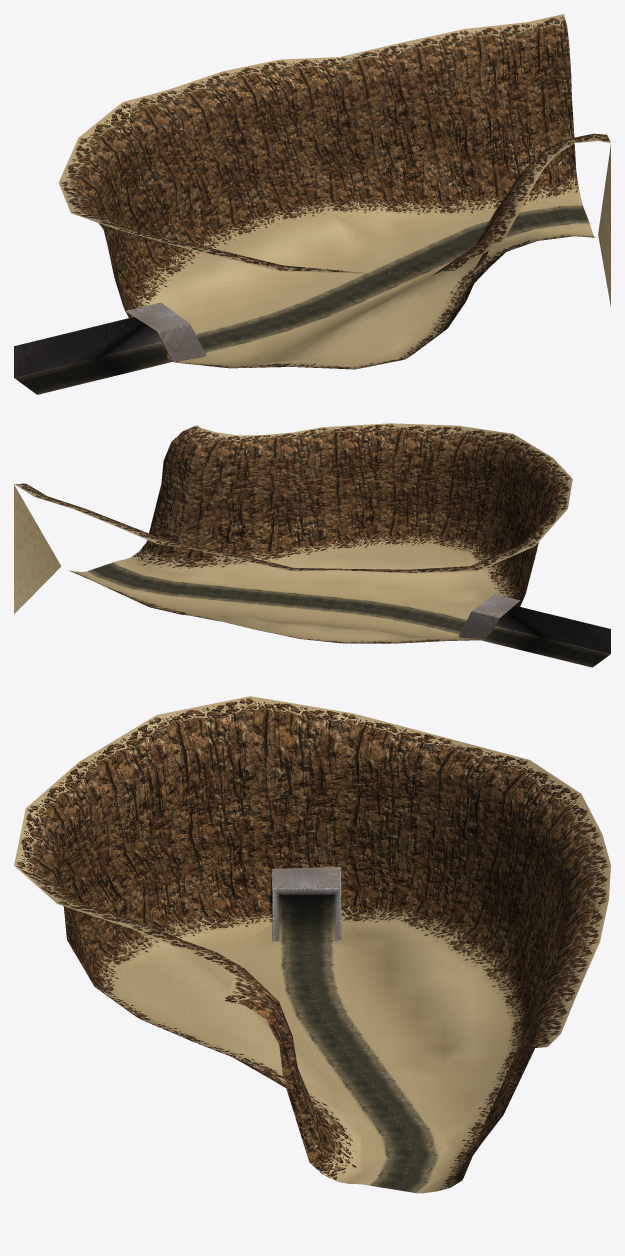
File: Mission8_Zone01C.glb
3 renders of one model, top to bottom at view 1: azimuth 30°, elevation 25°; view 2: azimuth 150°, elevation 25°; view 3: azimuth 270°, elevation 25°, orthographic. The views are drawn at different scales.
Parts seen in each view (by area): view 1: MISSION8_ZONE01C107, MISSION8_ZONE01C102, MISSION8_ZONE01C108, MISSION8_ZONE01C103, MISSION8_ZONE01C106, MISSION8_ZONE01C105, MISSION8_ZONE01C098, MISSION8_ZONE01C046, MISSION8_ZONE01C104, MISSION8_ZONE01C096, MISSION8_ZONE01C109, MISSION8_ZONE01C100 (+70 smaller); view 2: MISSION8_ZONE01C018, MISSION8_ZONE01C042, MISSION8_ZONE01C028, MISSION8_ZONE01C002, MISSION8_ZONE01C111, MISSION8_ZONE01C010, MISSION8_ZONE01C008, MISSION8_ZONE01C009, MISSION8_ZONE01C058, MISSION8_ZONE01C043, MISSION8_ZONE01C032, MISSION8_ZONE01C007 (+61 smaller); view 3: MISSION8_ZONE01C020, MISSION8_ZONE01C047, MISSION8_ZONE01C061, MISSION8_ZONE01C033, MISSION8_ZONE01C012, MISSION8_ZONE01C060, MISSION8_ZONE01C013, MISSION8_ZONE01C007, MISSION8_ZONE01C021, MISSION8_ZONE01C034, MISSION8_ZONE01C074, MISSION8_ZONE01C088 (+72 smaller).
Part boxes in pixels (x1,y1,x2,y2): MISSION8_ZONE01C107: (356,54,430,196); MISSION8_ZONE01C102: (150,99,232,240); MISSION8_ZONE01C108: (408,42,481,161); MISSION8_ZONE01C103: (196,98,276,232); MISSION8_ZONE01C106: (305,81,380,206); MISSION8_ZONE01C105: (252,81,358,216); MISSION8_ZONE01C098: (481,73,577,192); MISSION8_ZONE01C046: (14,211,141,384); MISSION8_ZONE01C104: (222,117,330,232); MISSION8_ZONE01C096: (427,157,490,220); MISSION8_ZONE01C109: (409,29,529,118); MISSION8_ZONE01C100: (79,102,150,184); MISSION8_ZONE01C018: (325,434,386,545); MISSION8_ZONE01C042: (219,441,294,556); MISSION8_ZONE01C028: (258,439,333,551); MISSION8_ZONE01C002: (442,425,512,492); MISSION8_ZONE01C111: (14,483,61,613); MISSION8_ZONE01C010: (382,432,448,531); MISSION8_ZONE01C008: (436,490,493,553); MISSION8_ZONE01C009: (382,450,448,540); MISSION8_ZONE01C058: (146,465,191,562); MISSION8_ZONE01C043: (189,432,236,521); MISSION8_ZONE01C032: (510,509,610,653); MISSION8_ZONE01C007: (475,453,526,560); MISSION8_ZONE01C020: (157,696,260,839); MISSION8_ZONE01C047: (254,711,349,921); MISSION8_ZONE01C061: (341,794,429,937); MISSION8_ZONE01C033: (253,712,344,909); MISSION8_ZONE01C012: (79,715,188,888); MISSION8_ZONE01C060: (342,713,440,861); MISSION8_ZONE01C013: (105,752,204,942); MISSION8_ZONE01C007: (56,793,137,962); MISSION8_ZONE01C021: (178,791,268,931); MISSION8_ZONE01C034: (189,827,279,941); MISSION8_ZONE01C074: (414,769,497,904); MISSION8_ZONE01C088: (423,825,535,897).
Size of the model in its own units: 127 by 35.4 by 86.68.
Materials: 9 (9 with a texture image).
